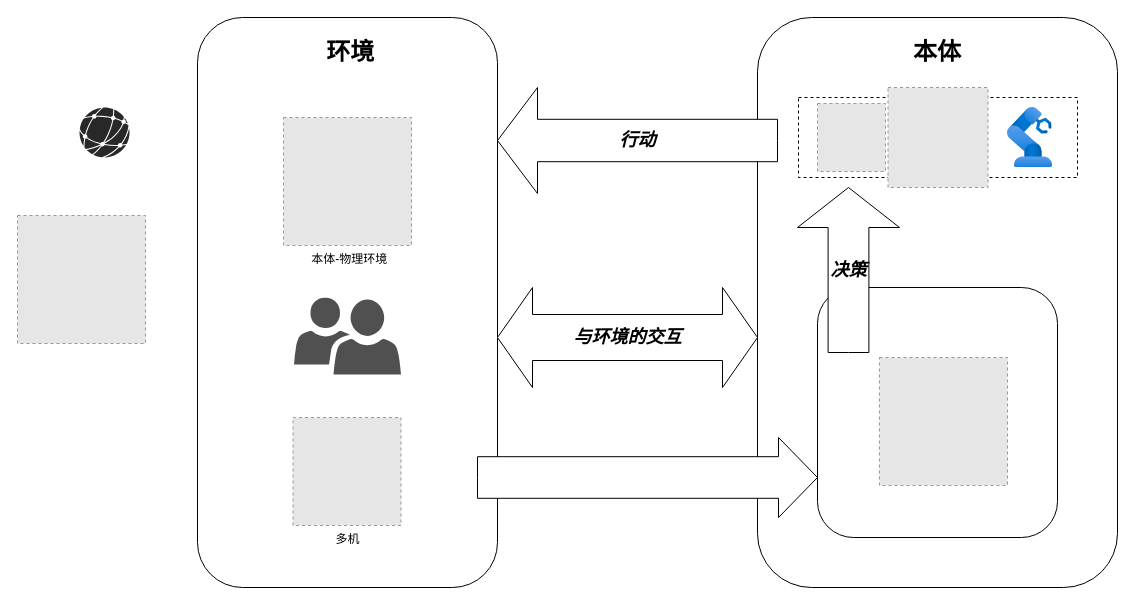
This 1135x605 diagram has some shape labels left out. Grey dashed boxes stand in for pictures. The box of each missing label's shape, as (x1, y1, x2, y2) in pixels:
人-机: (294, 297, 400, 374)
感知: (476, 436, 818, 518)
智能: (816, 286, 1058, 538)
